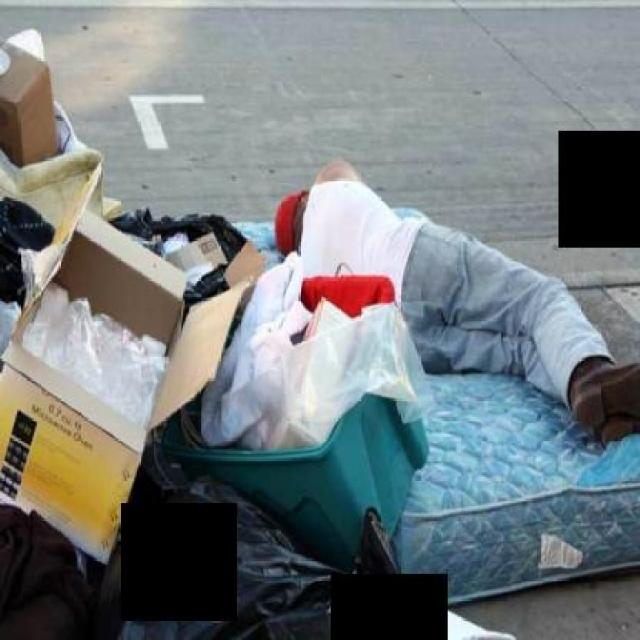plastic bag: (97, 409, 398, 637), (0, 316, 166, 636), (98, 198, 270, 314)
